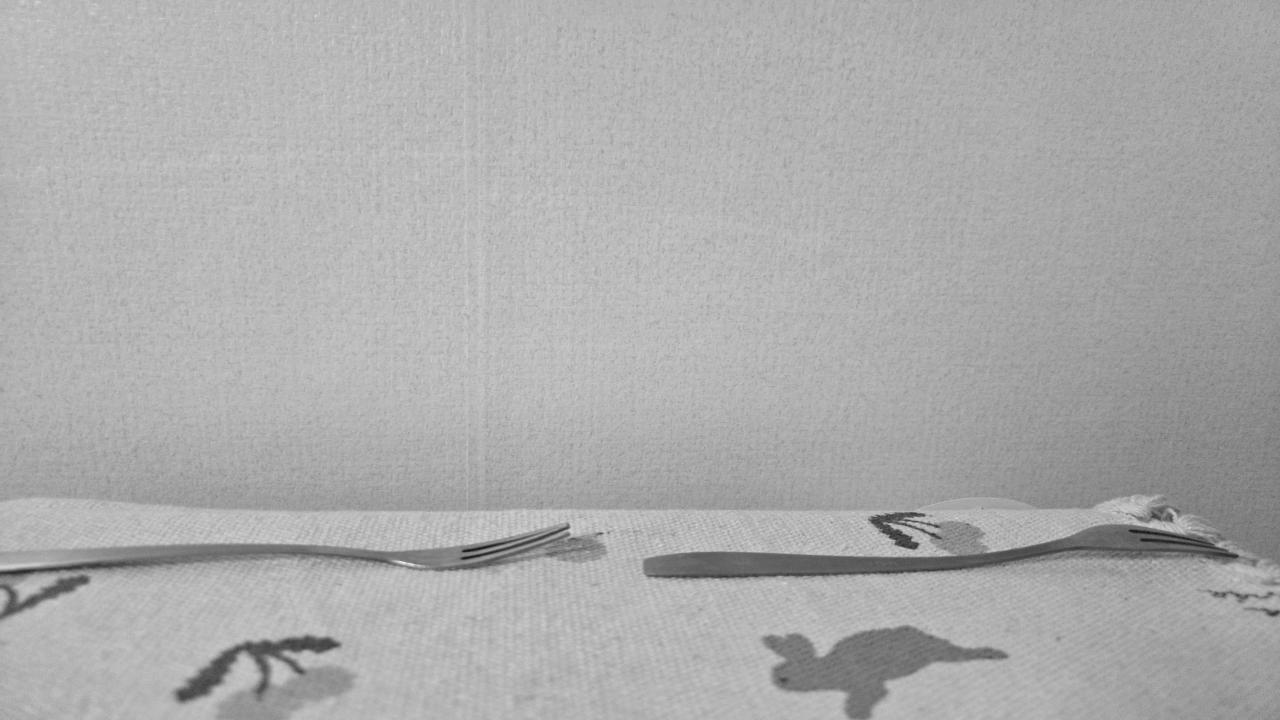fork: (648, 523, 1250, 580), (0, 522, 570, 574)
